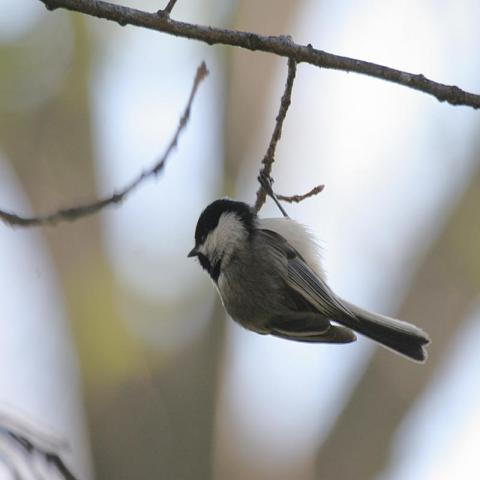bird: (185, 194, 432, 366)
